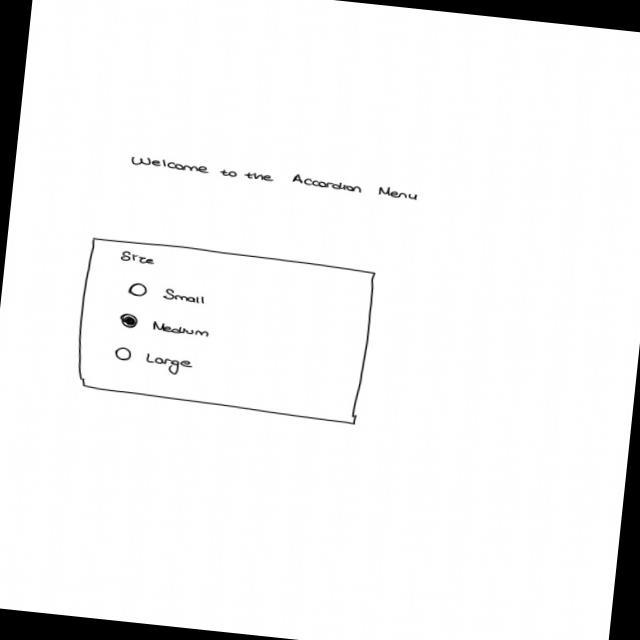container: (71, 235, 378, 428)
label: (128, 155, 421, 203), (118, 249, 160, 268)
radio: (118, 312, 216, 342), (111, 346, 197, 379), (125, 282, 211, 309)
